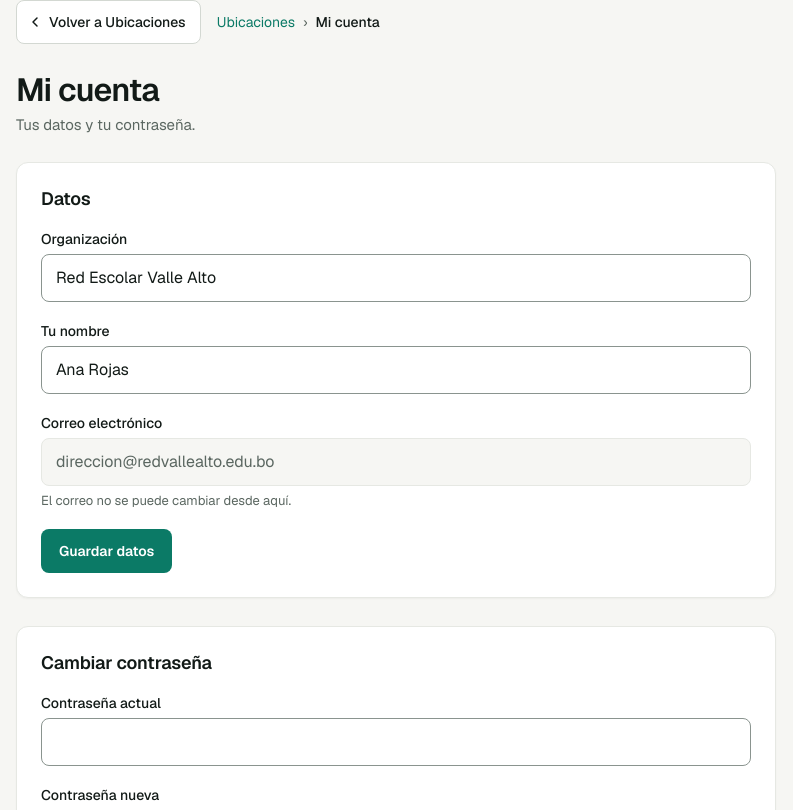
Test: MiCuenta › guarda los datos y actualiza la sesión
Replace the text in the field labelled "Tu nombre" with "Ana María Rojas": (396, 370) x1=41 y1=346 x2=751 y2=394
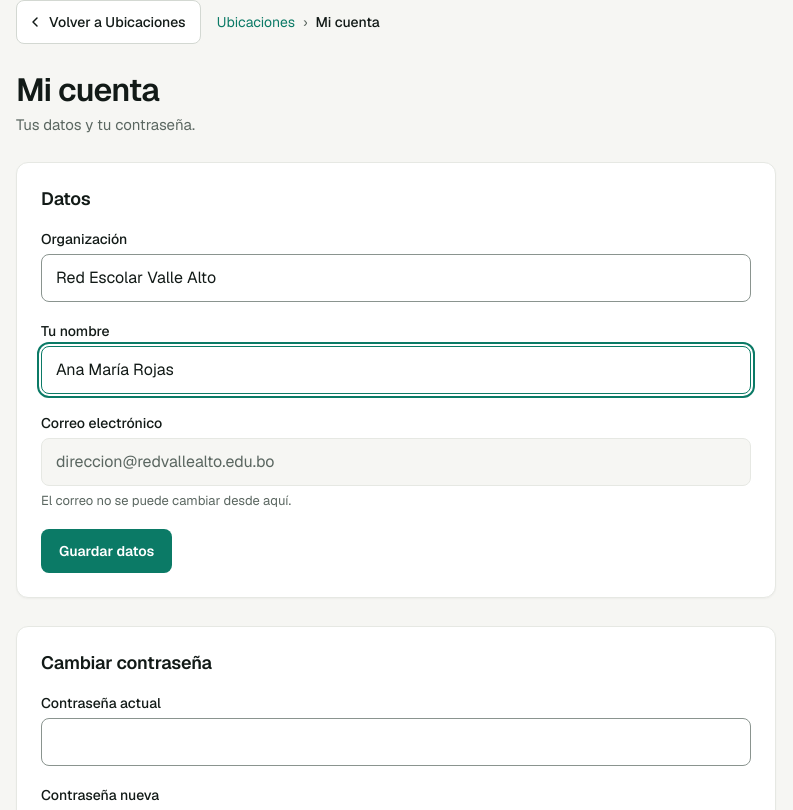
Click the button "Guardar datos": (107, 551) x1=41 y1=529 x2=172 y2=573
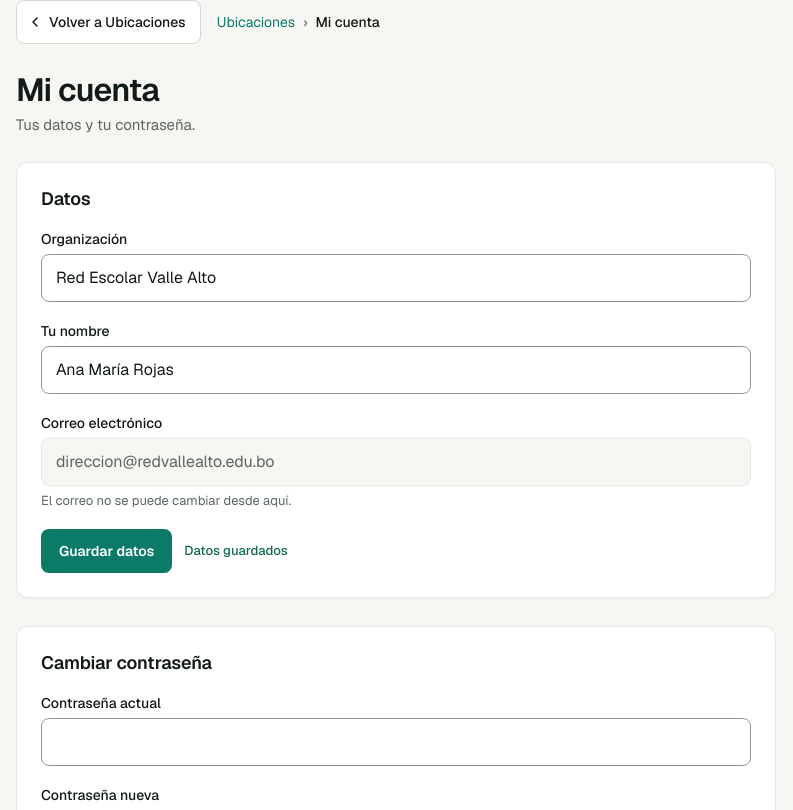
Result: the text "Datos guardados" is shown at x1=184 y1=542 x2=288 y2=559
